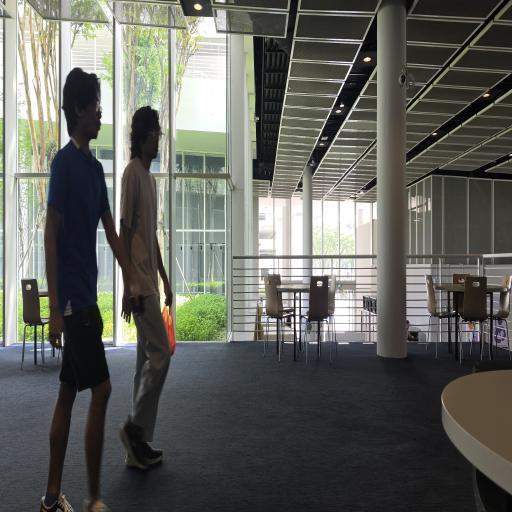person_right: (39, 52, 111, 512), (118, 88, 186, 478)
